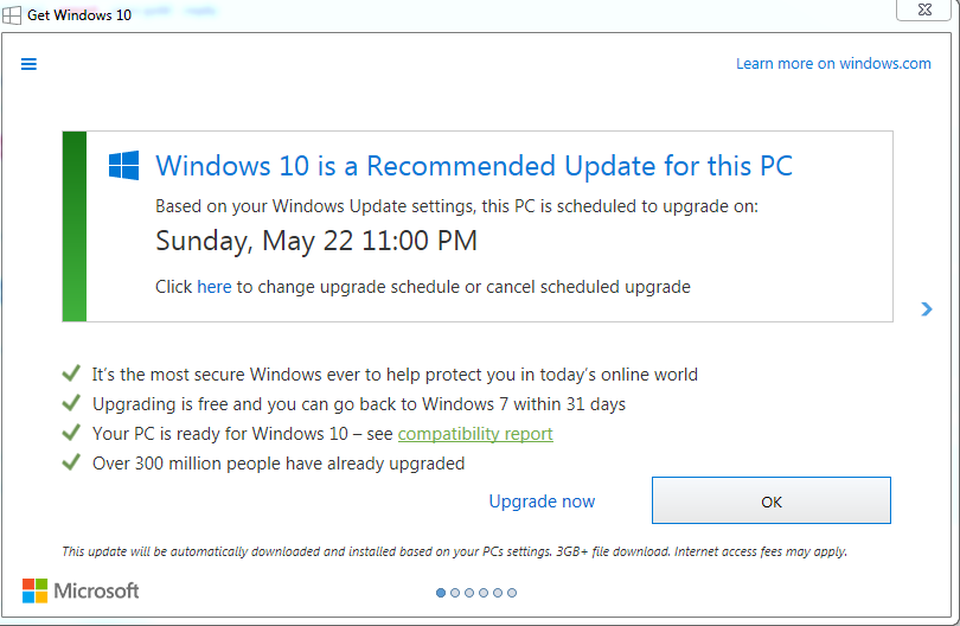close: (897, 1, 953, 22)
